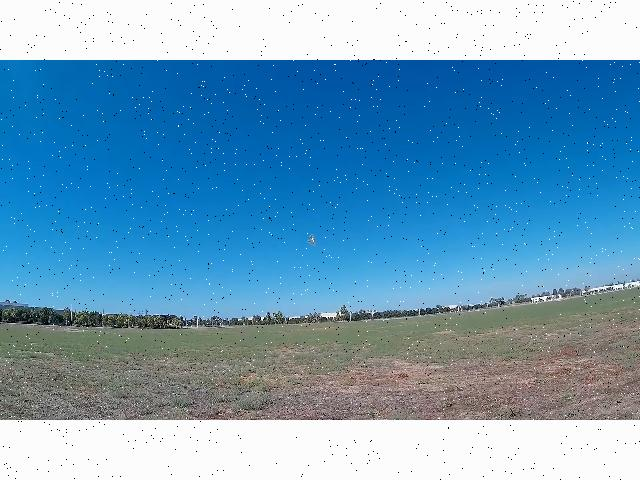Anti-Drone: (308, 233, 314, 244)
